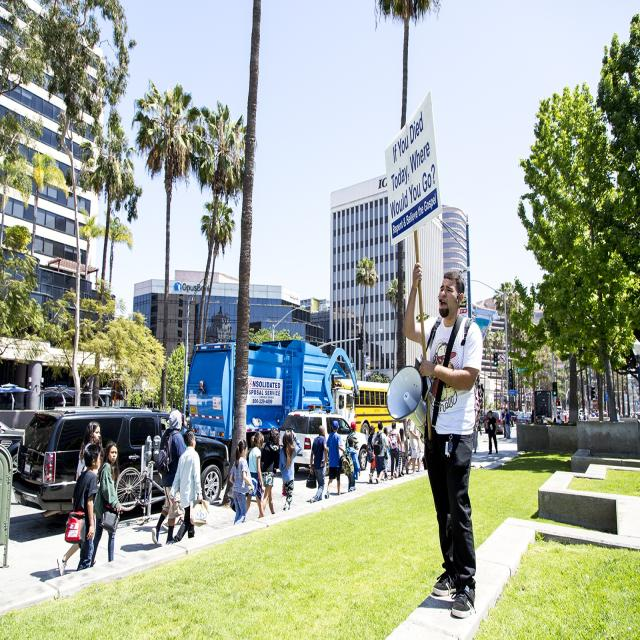body: (402, 261, 483, 620), (405, 400, 640, 472), (56, 420, 101, 578), (151, 408, 186, 546), (65, 443, 102, 572), (90, 439, 122, 568), (168, 430, 204, 544), (158, 409, 188, 533), (229, 438, 255, 528), (241, 430, 266, 523), (258, 425, 282, 519), (277, 428, 303, 513), (305, 424, 329, 504), (324, 419, 346, 500), (372, 419, 390, 487), (341, 436, 361, 493), (388, 420, 403, 480), (406, 416, 420, 475), (365, 424, 377, 484), (383, 427, 394, 482), (486, 408, 499, 454), (397, 425, 407, 478), (345, 420, 360, 450), (472, 413, 479, 454), (504, 408, 511, 440), (559, 406, 566, 434), (502, 409, 506, 439), (500, 409, 505, 424)
